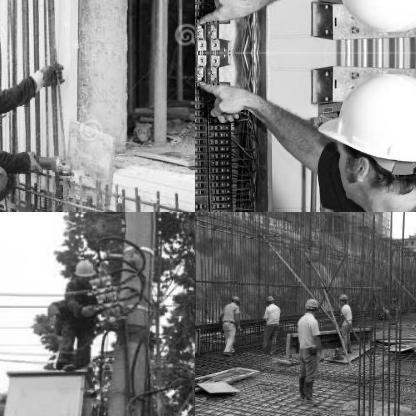Helmet: (301, 50, 415, 211), (300, 0, 415, 53), (74, 254, 96, 284), (303, 296, 317, 314), (228, 294, 240, 304), (337, 291, 347, 303), (264, 294, 274, 304)
